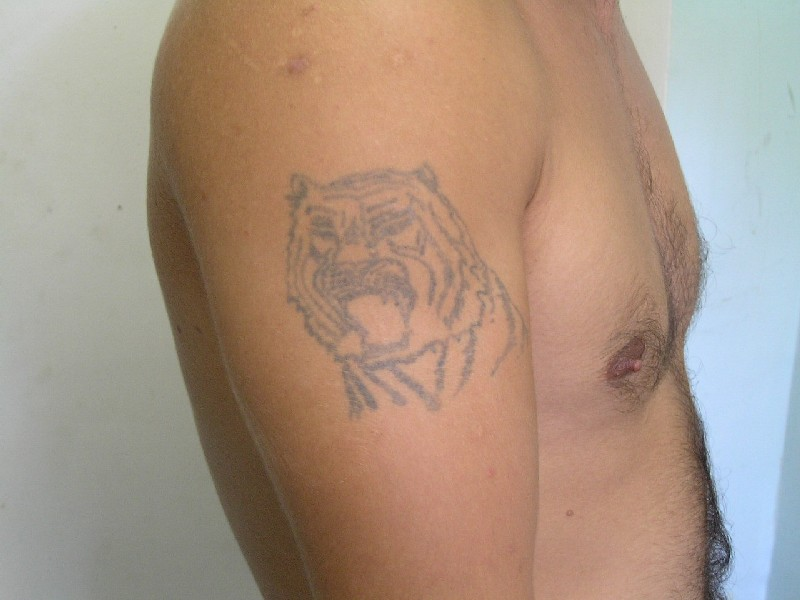tatu5_tigr: (281, 164, 522, 408)
